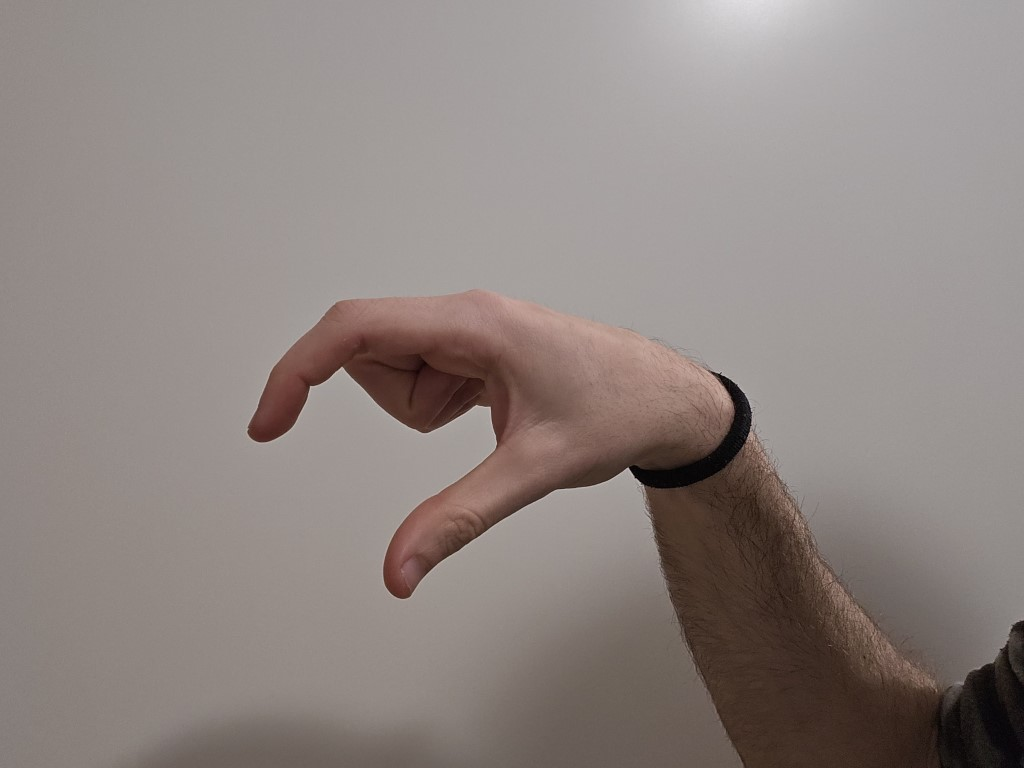q: (198, 247, 638, 620)
